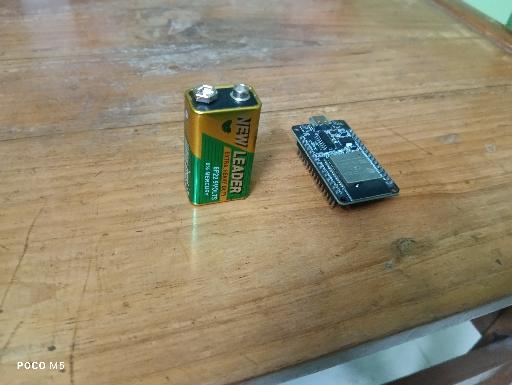Battery: (184, 83, 262, 206)
Esp32: (291, 115, 400, 211)
